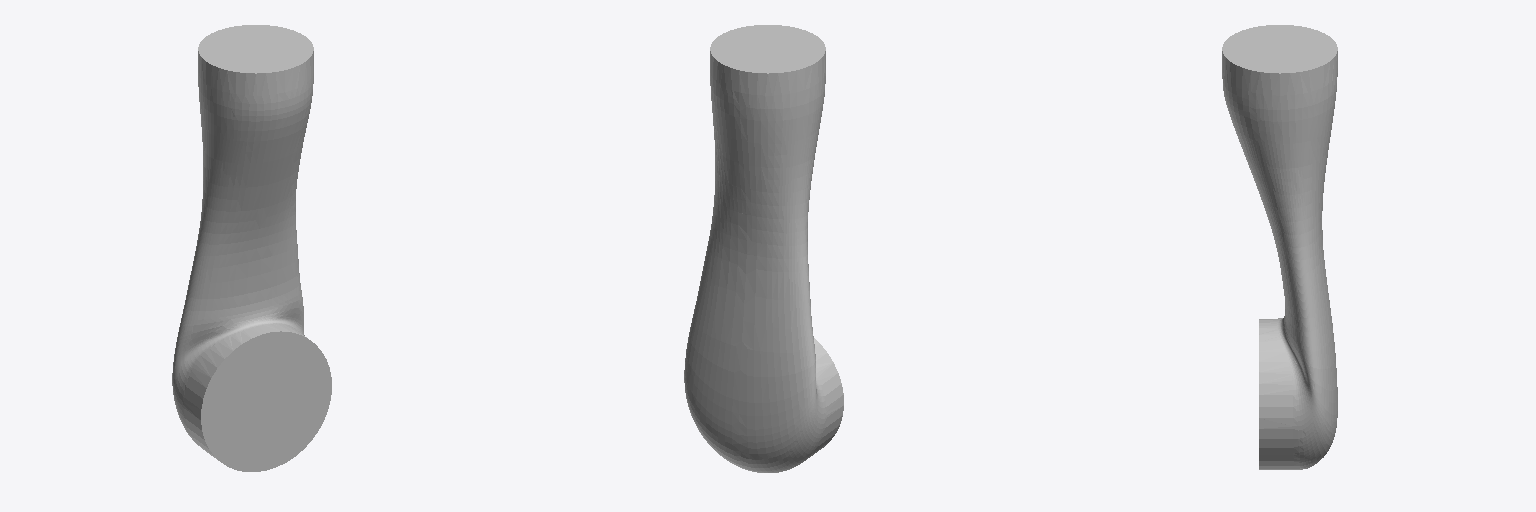
Rendered from forearm.obj.
3 renders of one model, left to right at view 1: azimuth 30°, elevation 25°; view 2: azimuth 150°, elevation 25°; view 3: azimuth 270°, elevation 25°, orthographic.
Size of the model in its own units: 0.0825 by 0.2485 by 0.063.